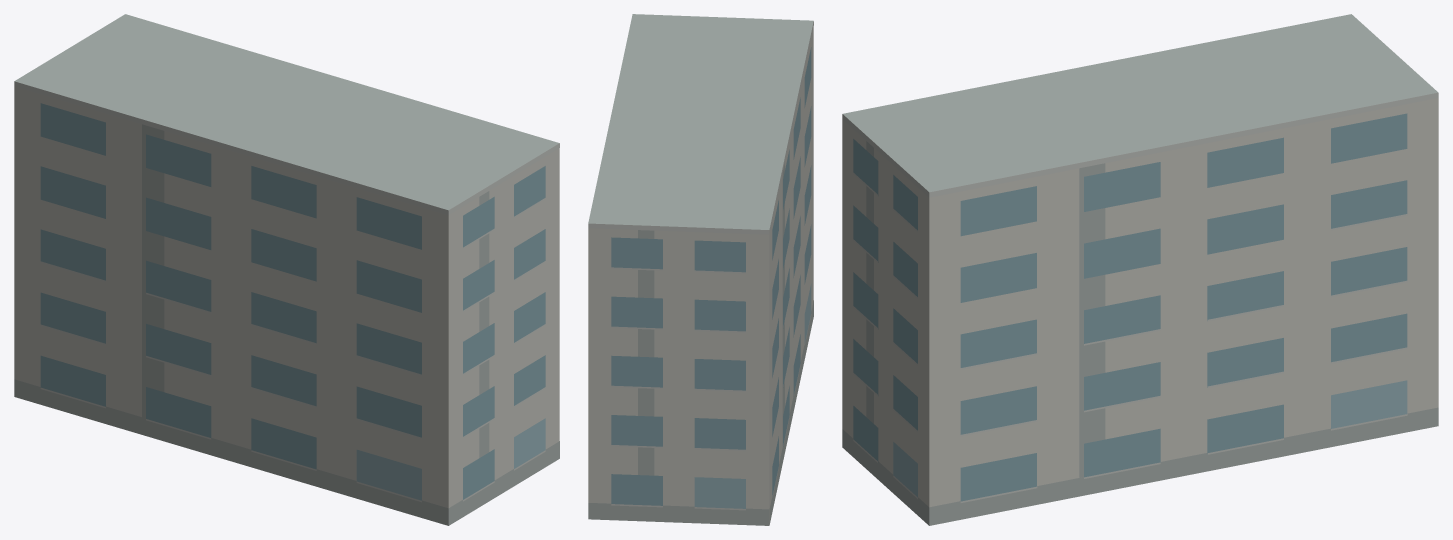
The model's file is survey-upis-32673134.glb.
The picture shows the model from 3 angles, left to right: view 1: azimuth 30°, elevation 25°; view 2: azimuth 150°, elevation 25°; view 3: azimuth 270°, elevation 25°; orthographic projection. The views are drawn at different scales.
Visible parts, largest first — view 1: survey-upis-32673134.tmp; view 2: survey-upis-32673134.tmp; view 3: survey-upis-32673134.tmp.
Part boxes in pixels (box(x1,y1,x2,y2)): survey-upis-32673134.tmp: box(14, 14, 559, 525); survey-upis-32673134.tmp: box(588, 14, 813, 525); survey-upis-32673134.tmp: box(842, 14, 1438, 525).
Bounding box in the file's own units: 17.49 × 15.25 × 24.71.
